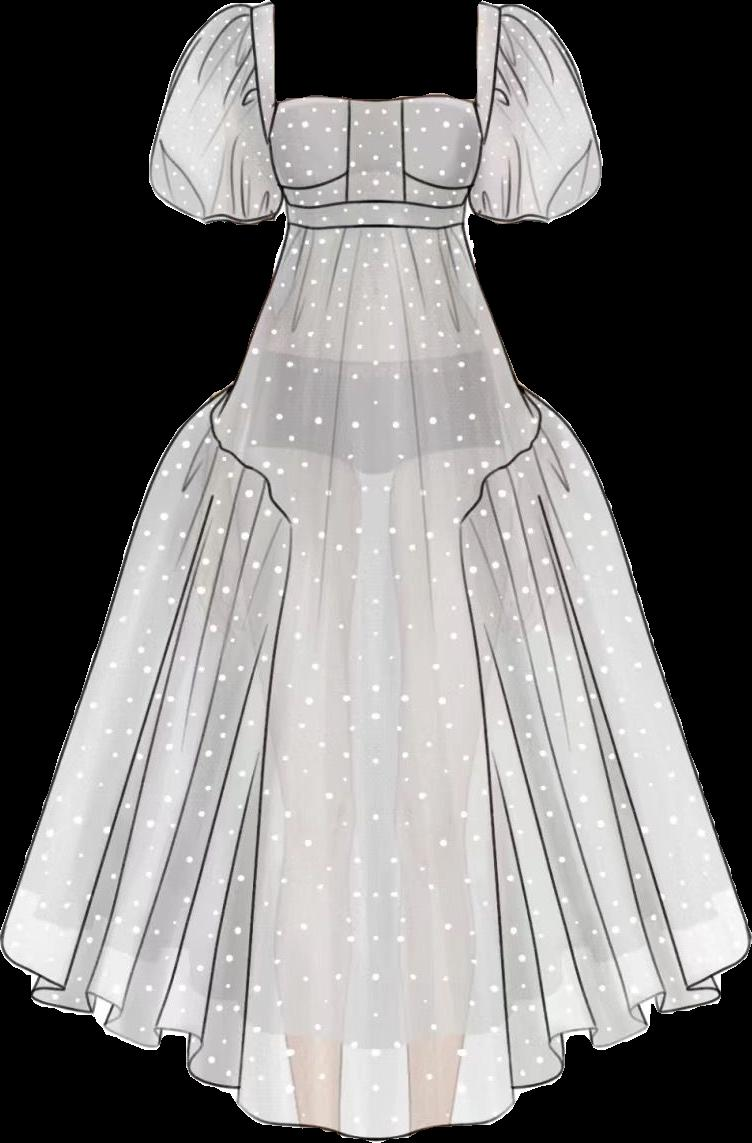Bodice: (251, 0, 501, 227)
Hemline: (231, 943, 751, 1142), (0, 948, 241, 1105)
Neckline: (263, 0, 489, 112)
Skirt: (3, 224, 747, 1138)
Sleeve: (149, 2, 284, 224), (466, 4, 602, 223)
Sleeveline: (473, 0, 514, 178), (238, 4, 279, 180)
Waistline: (204, 380, 297, 1099), (456, 385, 548, 1103), (282, 218, 468, 236)
